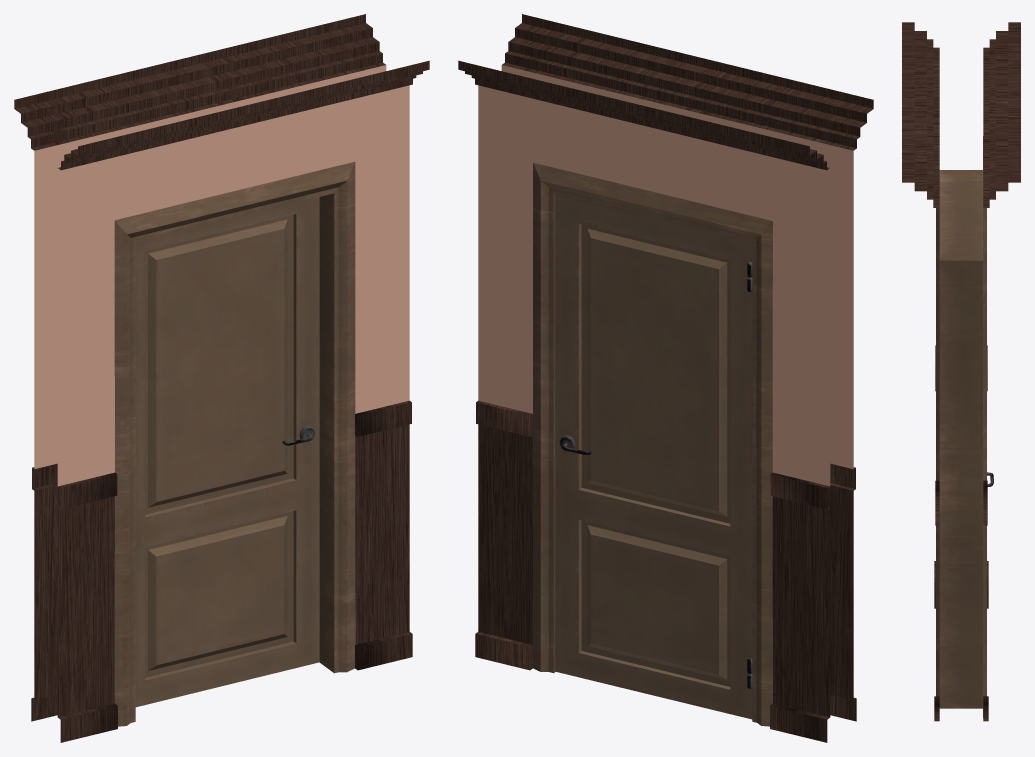
The model's file is door.glb.
3 views of the same model, side by side, from view 1: azimuth 30°, elevation 25°; view 2: azimuth 150°, elevation 25°; view 3: azimuth 270°, elevation 25° (orthographic). The views are drawn at different scales.
Visible parts, largest first — view 1: Cube.003, Cube.000, Cube.004, Cube.001; view 2: Cube.000, Cube.004, Cube.003, Cube.001; view 3: Cube.001, Cube.004, Cube.003.
Boxes of the visible parts, x1,y1,x2,y2 form: Cube.003: (57, 60, 429, 742); Cube.000: (135, 197, 319, 707); Cube.004: (14, 14, 386, 721); Cube.001: (114, 162, 355, 726); Cube.000: (555, 193, 752, 719); Cube.004: (458, 60, 830, 742); Cube.003: (501, 14, 873, 721); Cube.001: (533, 162, 772, 726); Cube.001: (936, 136, 986, 717); Cube.004: (983, 22, 1020, 721); Cube.003: (902, 22, 939, 721).
Size of the model in its own units: 302 by 500 by 94.72.
3 materials, 3 textured.
